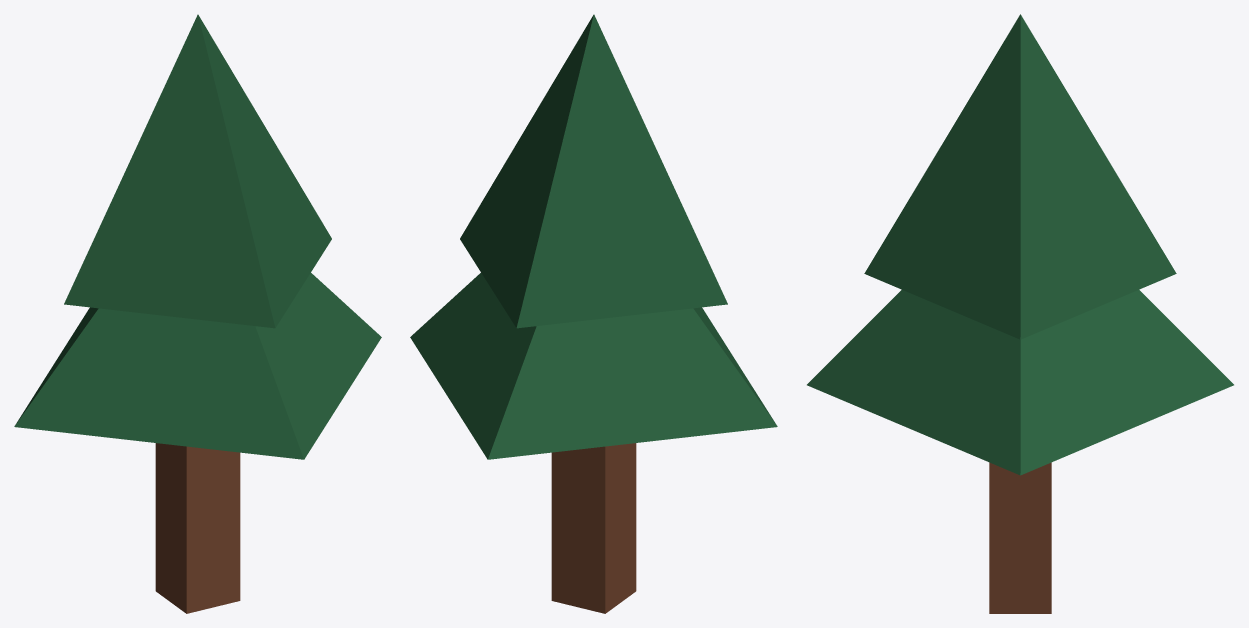
The model's file is tree1.fbx.
3 views of the same model, side by side, from view 1: azimuth 30°, elevation 25°; view 2: azimuth 150°, elevation 25°; view 3: azimuth 270°, elevation 25° (orthographic).
Parts seen in each view (by area): view 1: 锥体.001, 锥体, 立方体; view 2: 锥体.001, 锥体, 立方体; view 3: 锥体.001, 锥体, 立方体.
Part boxes in pixels (box(x1,y1,x2,y2)): 锥体.001: box(64, 14, 331, 328); 锥体: box(14, 273, 381, 459); 立方体: box(155, 443, 240, 613); 锥体.001: box(460, 14, 727, 328); 锥体: box(410, 273, 777, 459); 立方体: box(551, 443, 636, 613); 锥体.001: box(864, 14, 1176, 339); 锥体: box(807, 290, 1233, 475); 立方体: box(989, 462, 1051, 613).
Size of the model in its own units: 439 by 663 by 439.
